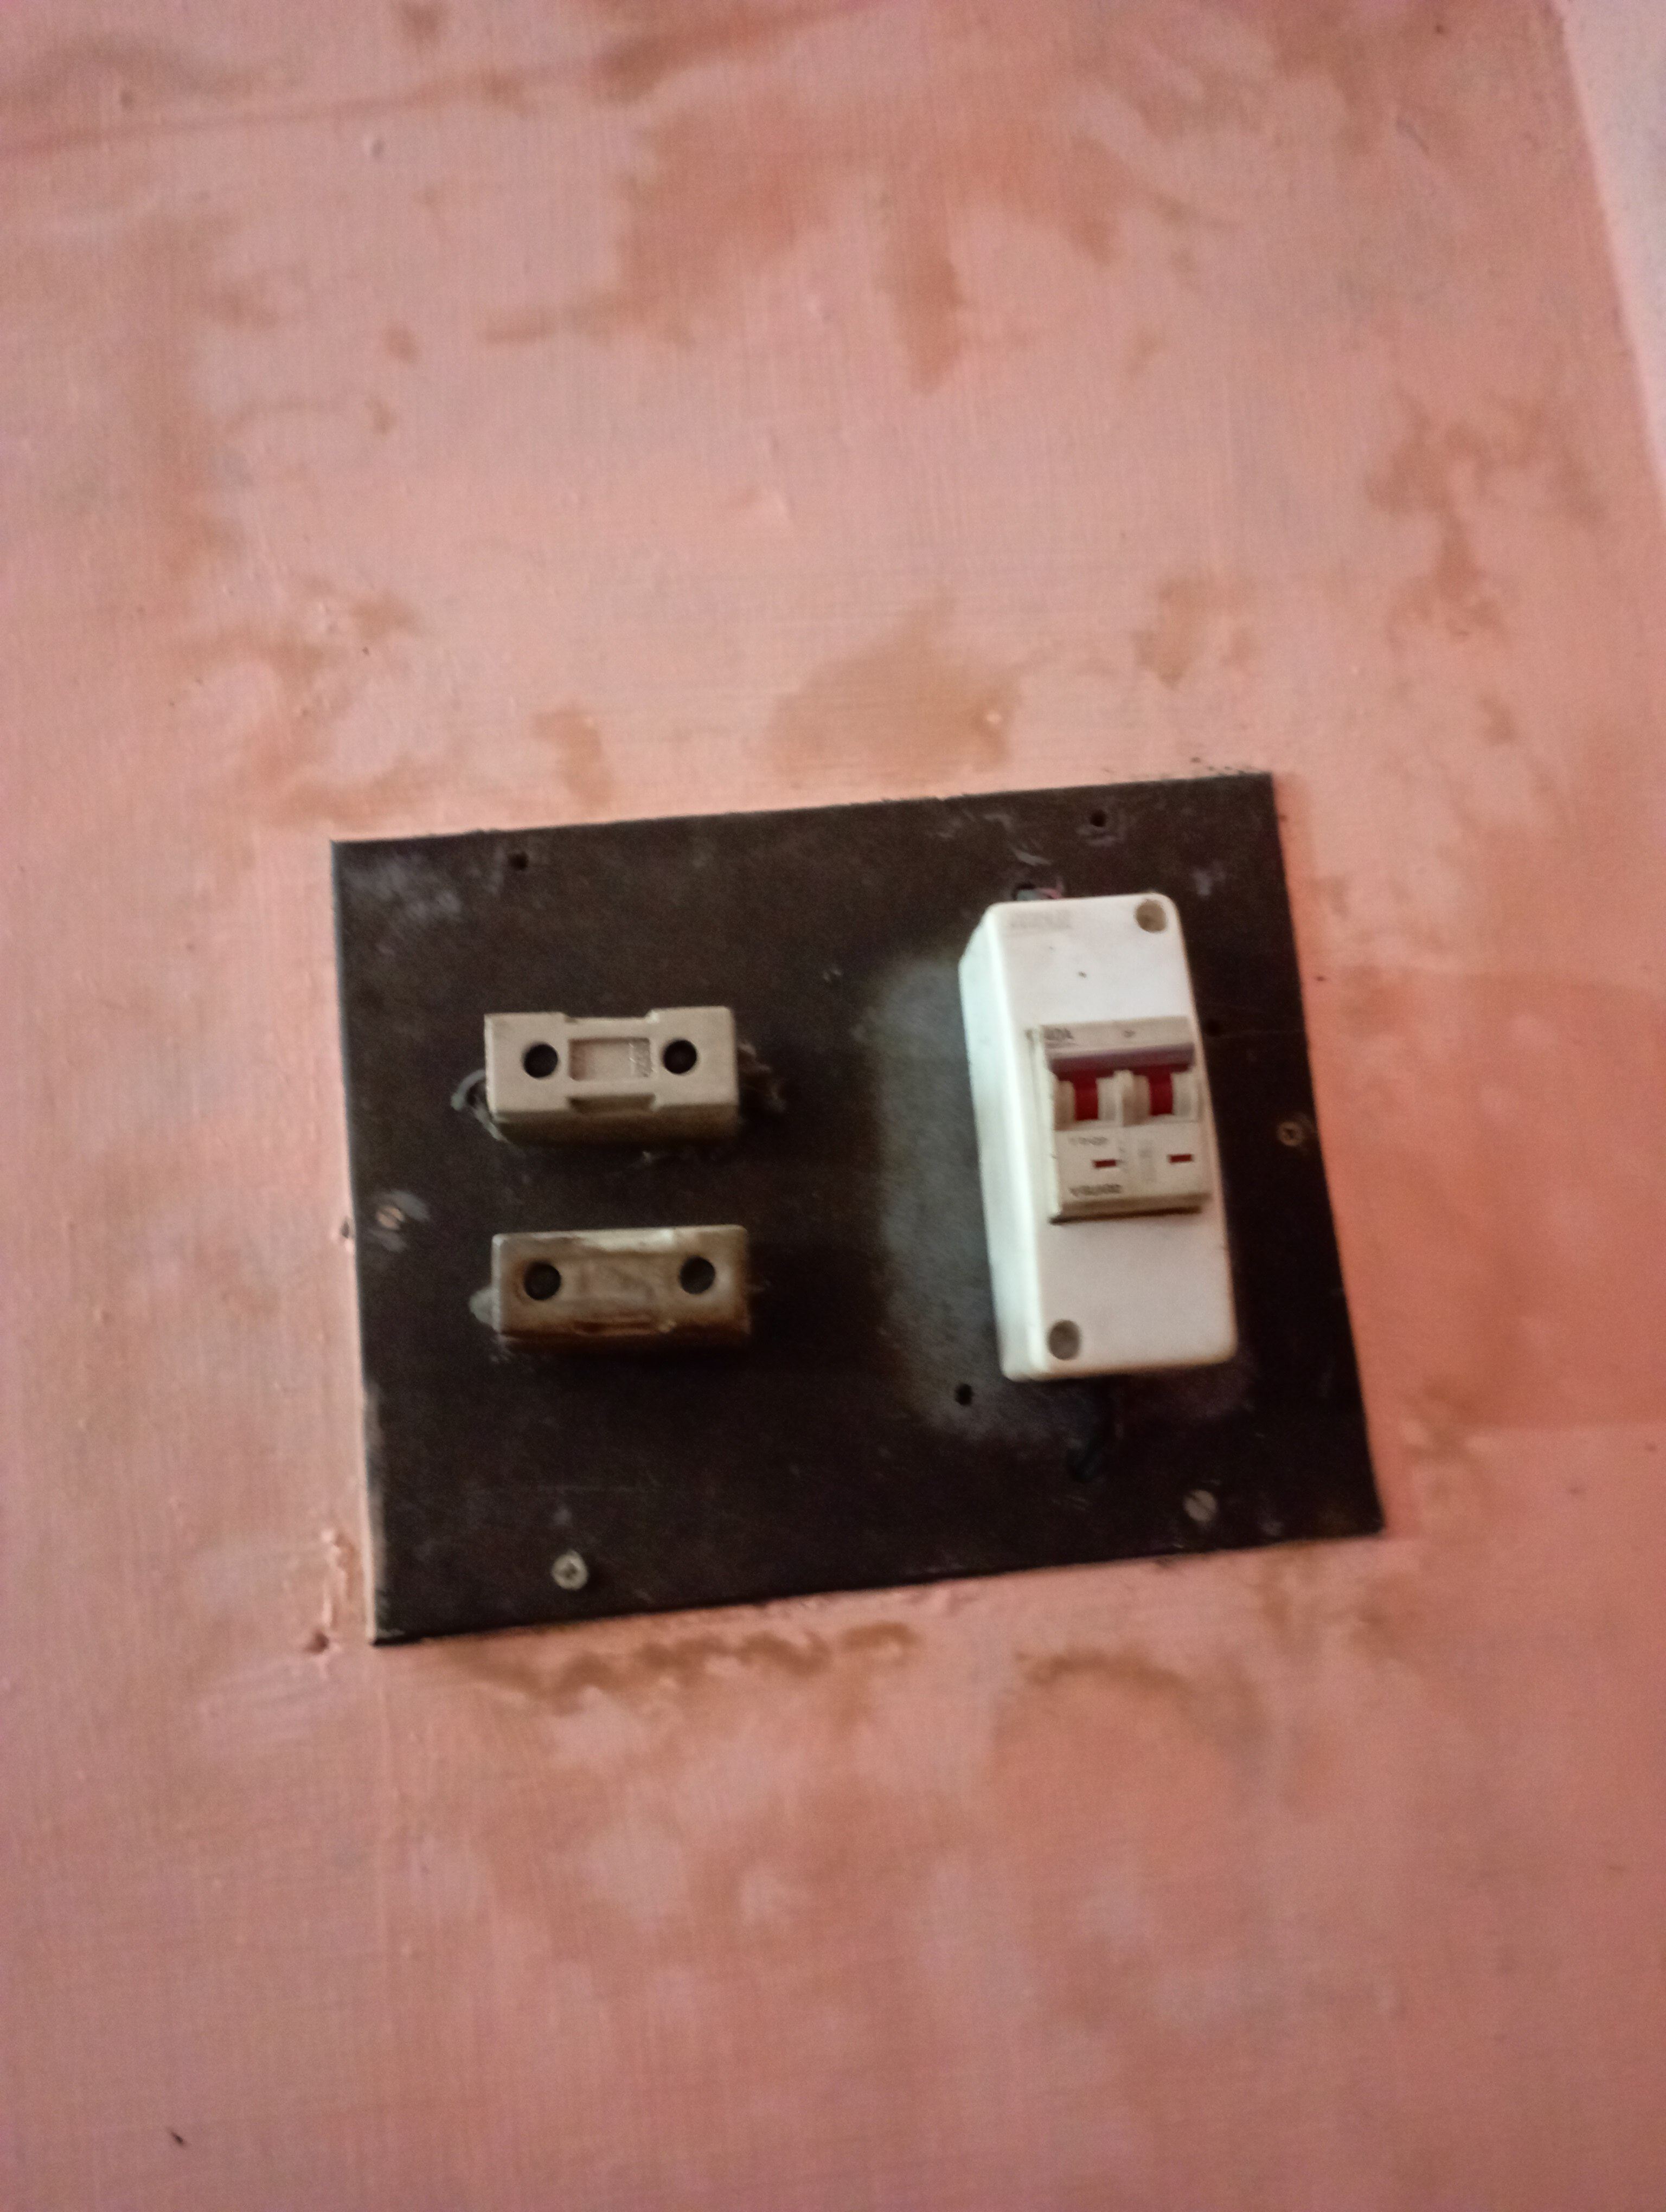ciruit_breaker: (952, 881, 1265, 1388)
fuse: (490, 1221, 772, 1366), (481, 983, 766, 1110)
